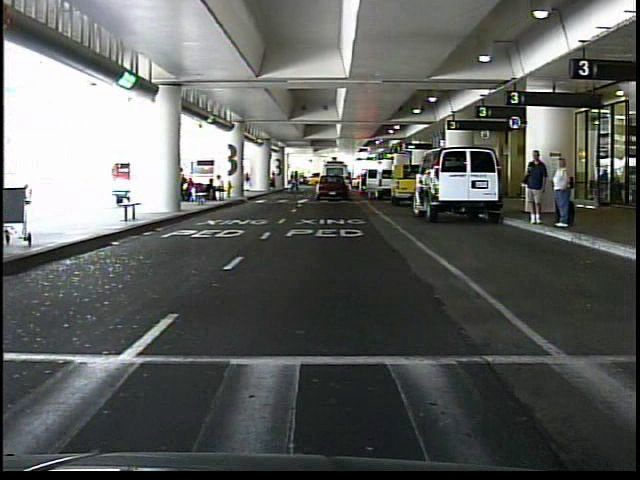person: (519, 146, 548, 228), (549, 153, 574, 231), (268, 168, 280, 192), (347, 169, 356, 194)
